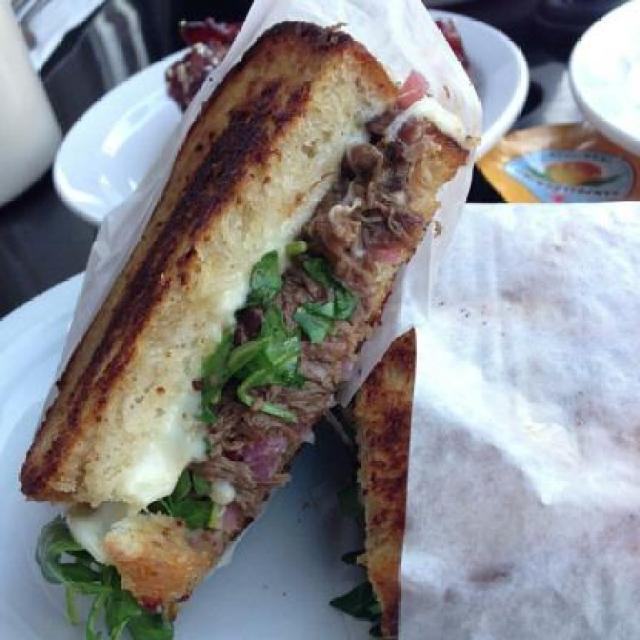Sandwich: (14, 13, 473, 639), (353, 325, 416, 633)
